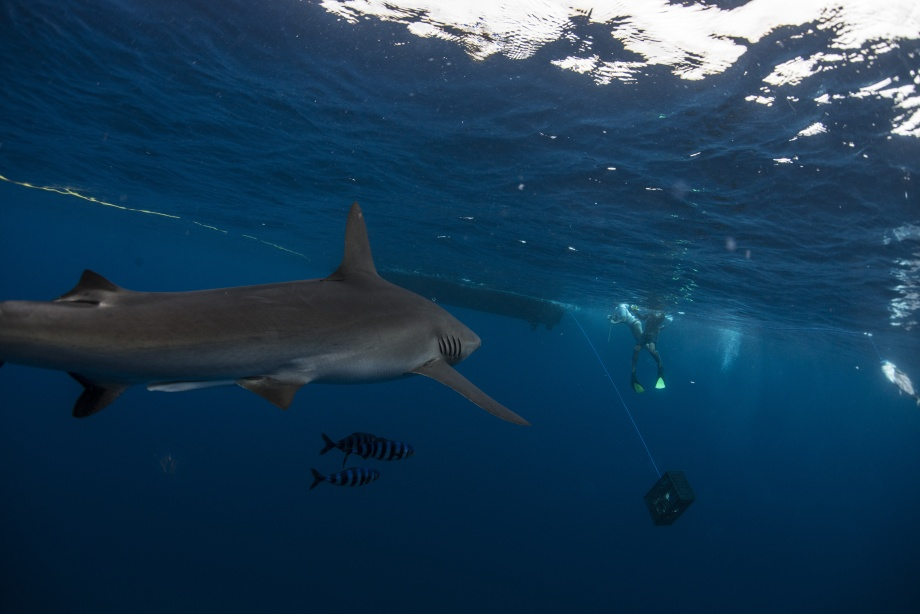Sedoso: (1, 190, 564, 455)
